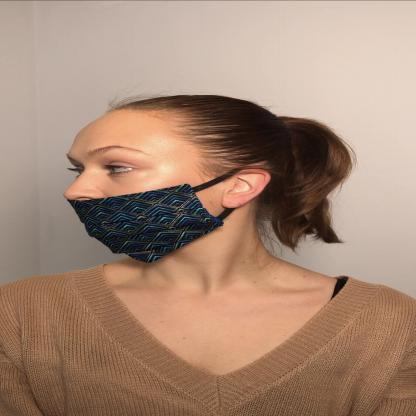mask_weared_incorrect: (56, 88, 282, 268)
